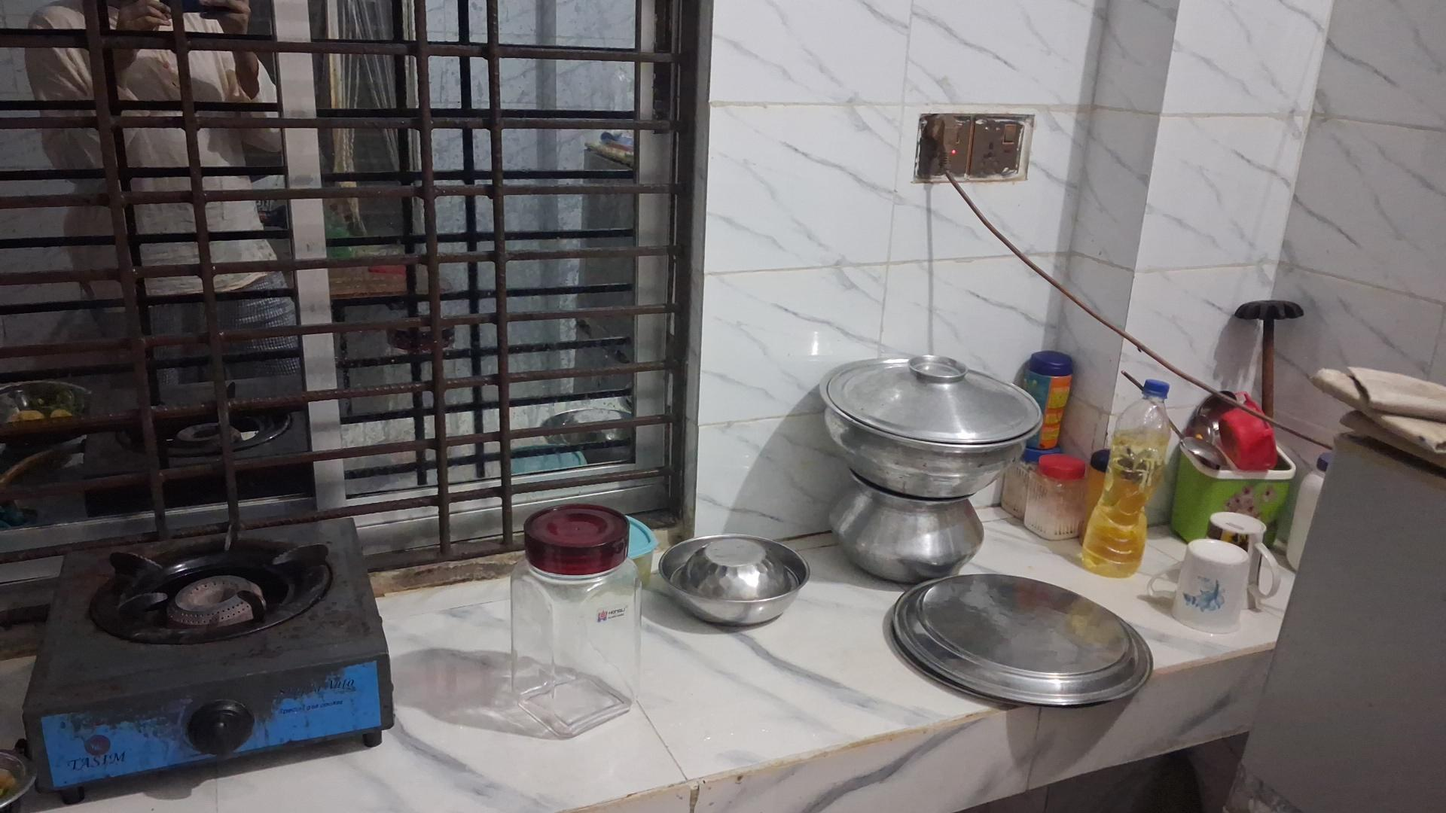Bottle: (1084, 379, 1183, 577)
Bowl: (653, 534, 810, 629)
Cup: (1171, 538, 1253, 636)
Jar: (506, 509, 637, 731), (1025, 455, 1080, 539), (1026, 357, 1071, 448)
Plate: (892, 574, 1151, 706)
Pot: (819, 357, 1045, 500), (826, 468, 986, 581)
Window: (0, 0, 679, 522)
